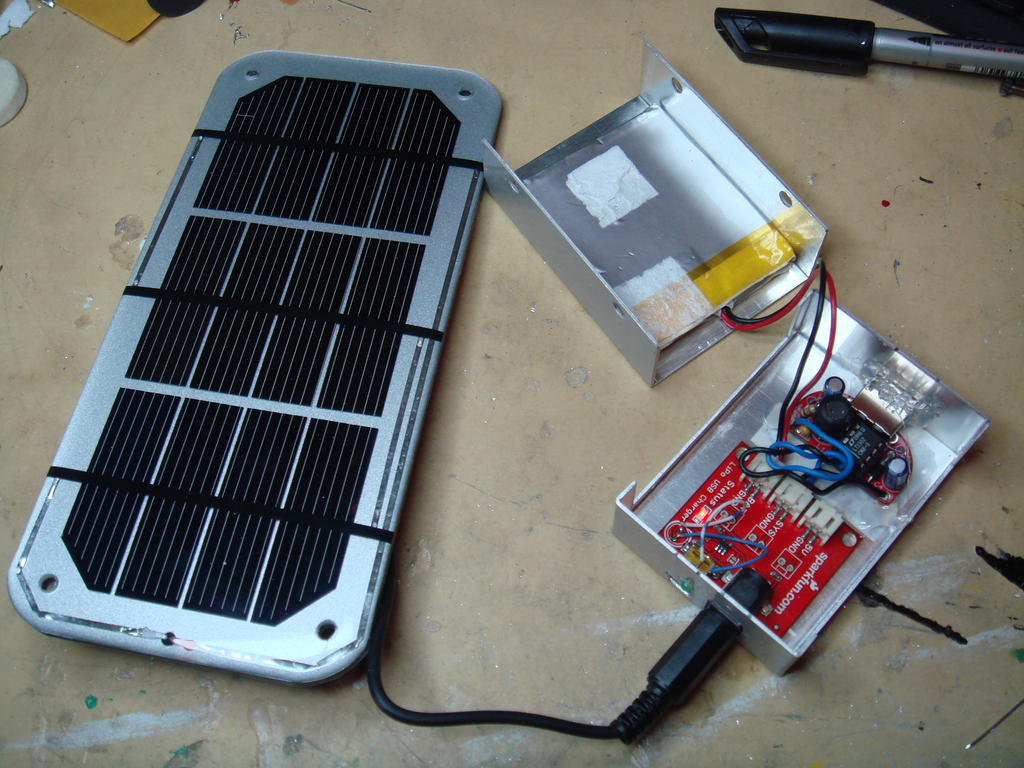Pen: (714, 5, 1023, 83)
